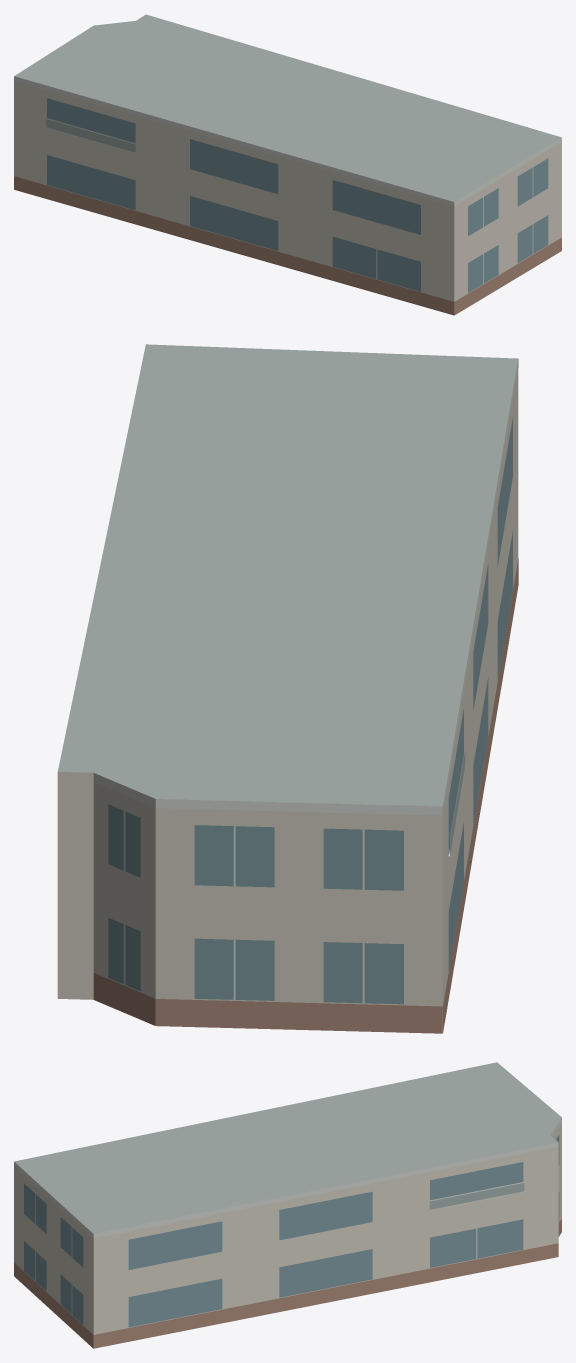
File: survey-upis-32508337.glb
The picture shows the model from 3 angles, top to bottom: view 1: azimuth 30°, elevation 25°; view 2: azimuth 150°, elevation 25°; view 3: azimuth 270°, elevation 25°; orthographic projection. The views are drawn at different scales.
Visible parts, largest first — view 1: survey-upis-32508337.tmp; view 2: survey-upis-32508337.tmp; view 3: survey-upis-32508337.tmp.
Part boxes in pixels (box(x1,y1,x2,y2)): survey-upis-32508337.tmp: box(14, 14, 561, 315); survey-upis-32508337.tmp: box(57, 344, 518, 1033); survey-upis-32508337.tmp: box(14, 1062, 561, 1348).
Size of the model in its own units: 19.59 by 6.1 by 26.4.
